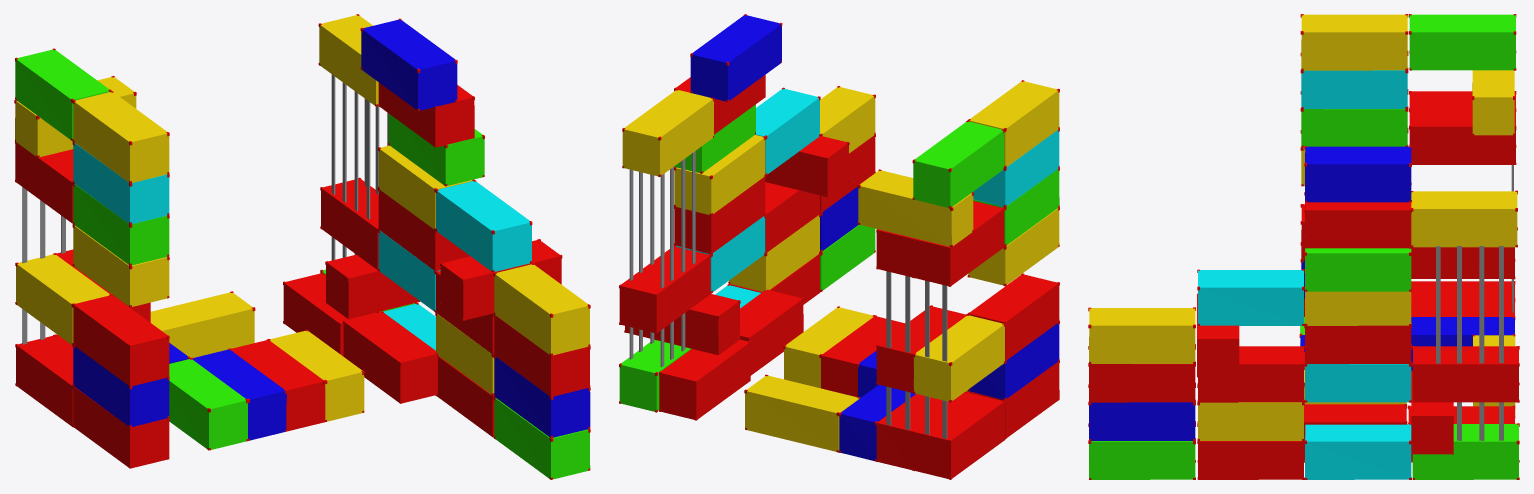
File: ParentPart19FBX.FBX
The picture shows the model from 3 angles, left to right: view 1: azimuth 30°, elevation 25°; view 2: azimuth 150°, elevation 25°; view 3: azimuth 270°, elevation 25°; orthographic projection. The views are drawn at different scales.
Visible parts, largest first — view 1: ParentPart19; view 2: ParentPart19; view 3: ParentPart19.
Part boxes in pixels (bbox=[...]): ParentPart19: bbox=[14, 14, 590, 479]; ParentPart19: bbox=[619, 14, 1059, 479]; ParentPart19: bbox=[1088, 14, 1519, 479].
Size of the model in its own units: 7.87 by 8.33 by 6.57.
